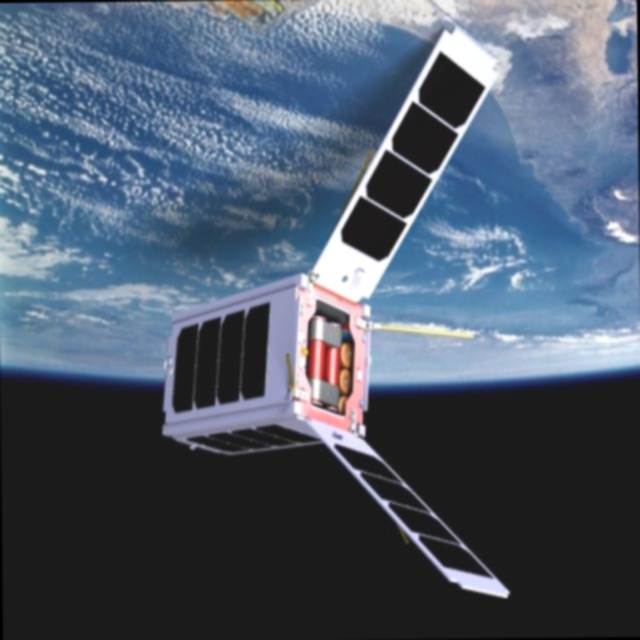satellite: (148, 12, 522, 612)
